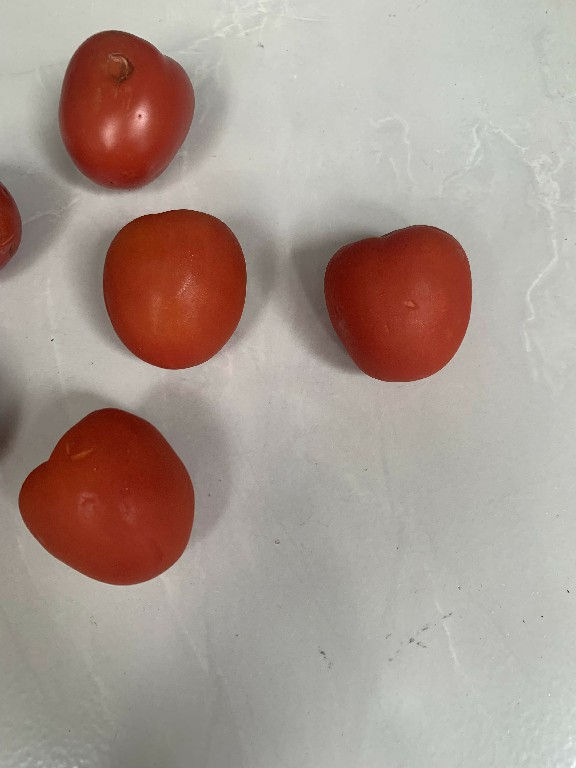NG: (44, 20, 196, 192)
OK: (7, 403, 195, 593), (303, 214, 481, 393), (100, 204, 248, 383)
